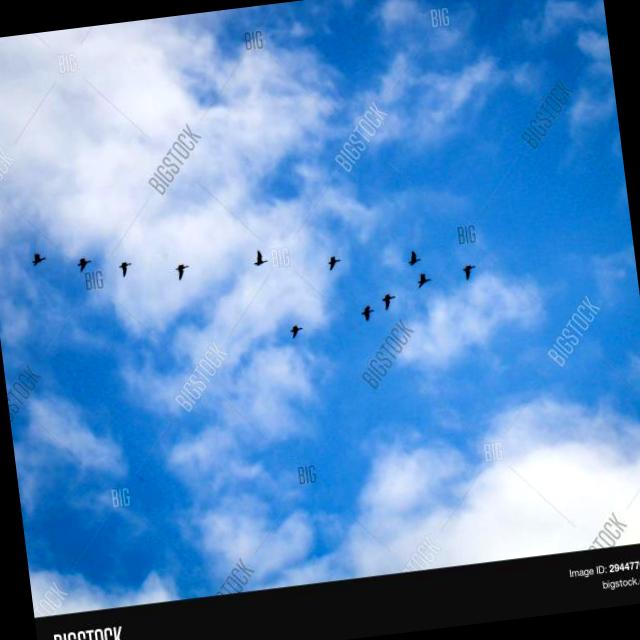bird: (376, 286, 403, 312), (457, 262, 487, 284), (410, 270, 442, 290), (116, 256, 140, 281), (169, 261, 194, 282), (354, 303, 376, 326), (250, 247, 270, 270), (324, 251, 340, 276), (74, 254, 95, 273), (27, 250, 48, 268), (405, 246, 422, 268), (288, 322, 306, 342)
